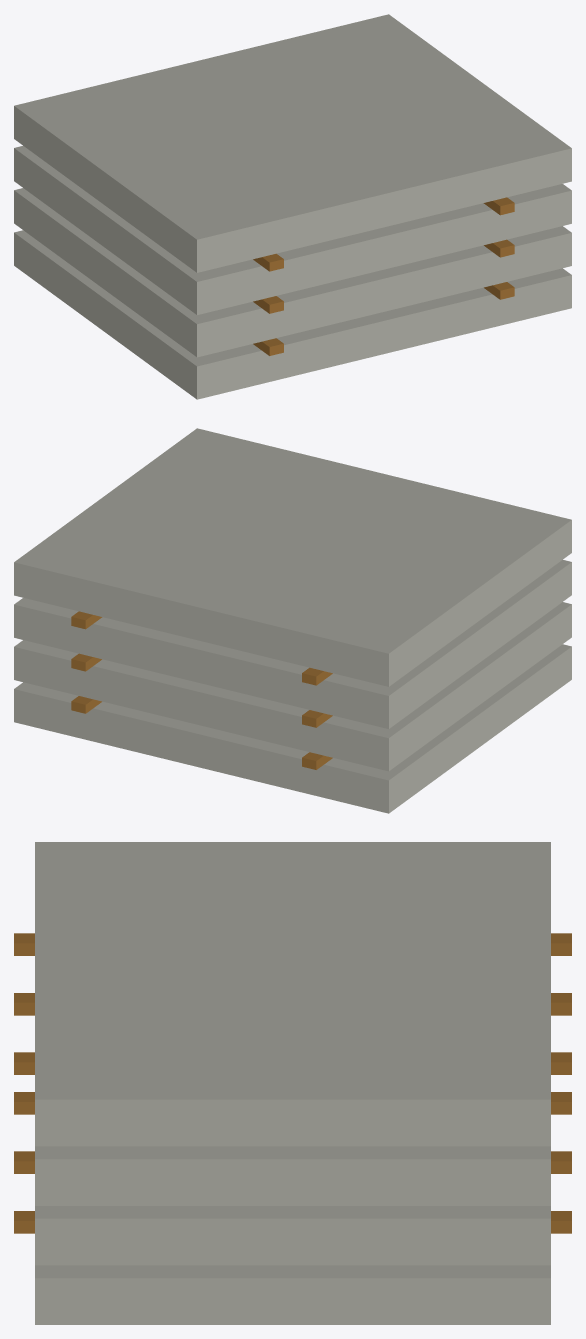
File: SM_TraviesasSueltas_v0_Hormigon_LOD1.fbx
The picture shows the model from 3 angles, top to bottom: view 1: azimuth 30°, elevation 25°; view 2: azimuth 150°, elevation 25°; view 3: azimuth 270°, elevation 25°; orthographic projection. The views are drawn at different scales.
Parts seen in each view (by area): view 1: SM_traviesas_sueltas_v0_LOD1; view 2: SM_traviesas_sueltas_v0_LOD1; view 3: SM_traviesas_sueltas_v0_LOD1.
Part boxes in pixels (bbox=[...]): SM_traviesas_sueltas_v0_LOD1: bbox=[14, 14, 571, 399]; SM_traviesas_sueltas_v0_LOD1: bbox=[14, 428, 571, 813]; SM_traviesas_sueltas_v0_LOD1: bbox=[14, 842, 571, 1324].
Size of the model in its own units: 2.6 by 1.06 by 2.38.
